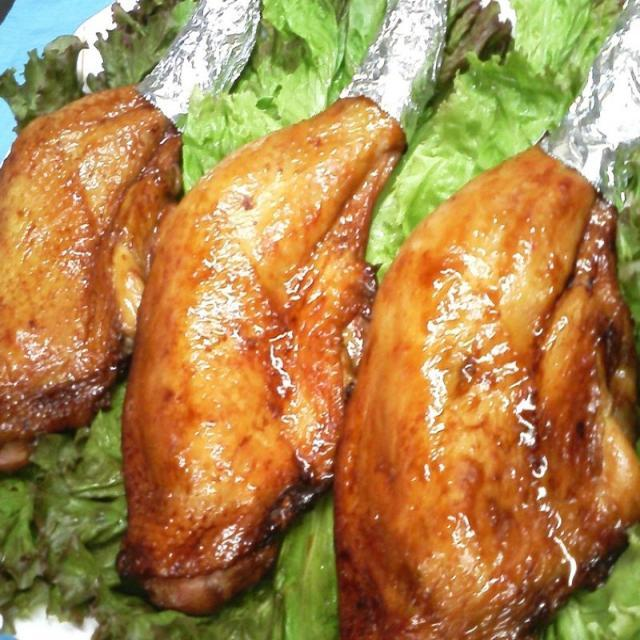Chicken roast: (364, 116, 635, 640), (141, 106, 381, 637), (3, 6, 178, 446)
